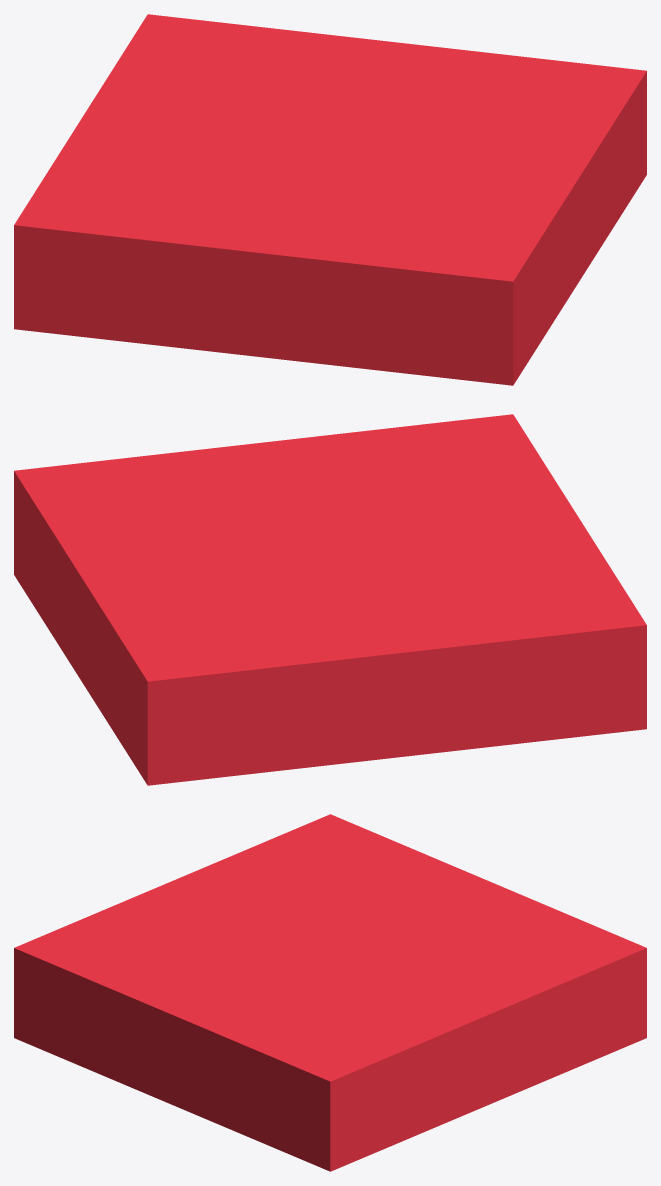
The model's file is obstacle diamond.FBX.
The picture shows the model from 3 angles, top to bottom: view 1: azimuth 30°, elevation 25°; view 2: azimuth 150°, elevation 25°; view 3: azimuth 270°, elevation 25°; orthographic projection. The views are drawn at different scales.
Visible parts, largest first — view 1: obstacleDiamond; view 2: obstacleDiamond; view 3: obstacleDiamond.
Boxes of the visible parts, box(x1,y1,x2,y2) form: obstacleDiamond: box(14, 14, 646, 385); obstacleDiamond: box(14, 414, 646, 785); obstacleDiamond: box(14, 814, 646, 1171).
Bounding box in the file's own units: 53.05 × 8.33 × 53.05.
